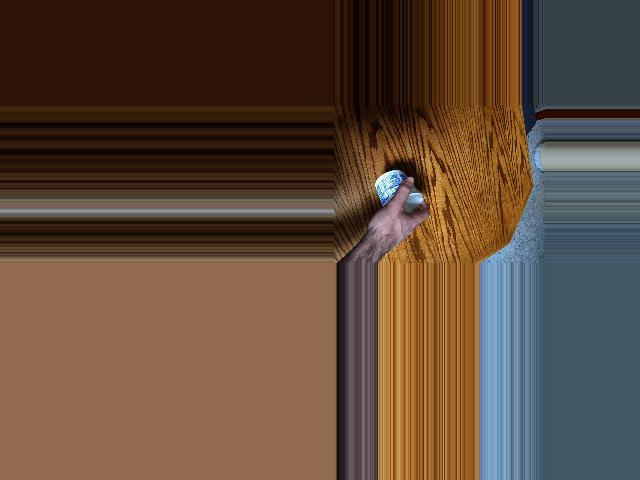cotage: (371, 168, 424, 215)
